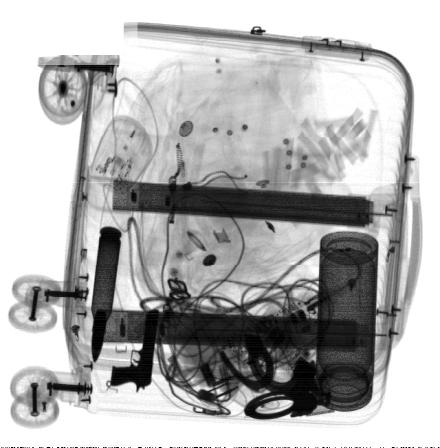Bullet: (91, 226, 123, 366)
Gun: (110, 310, 160, 388)
HandCuffs: (218, 335, 319, 421)
